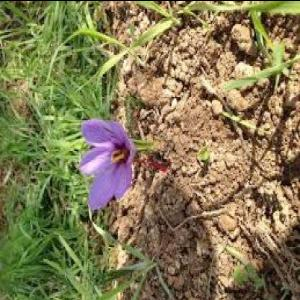Saffron: (77, 115, 132, 209)
